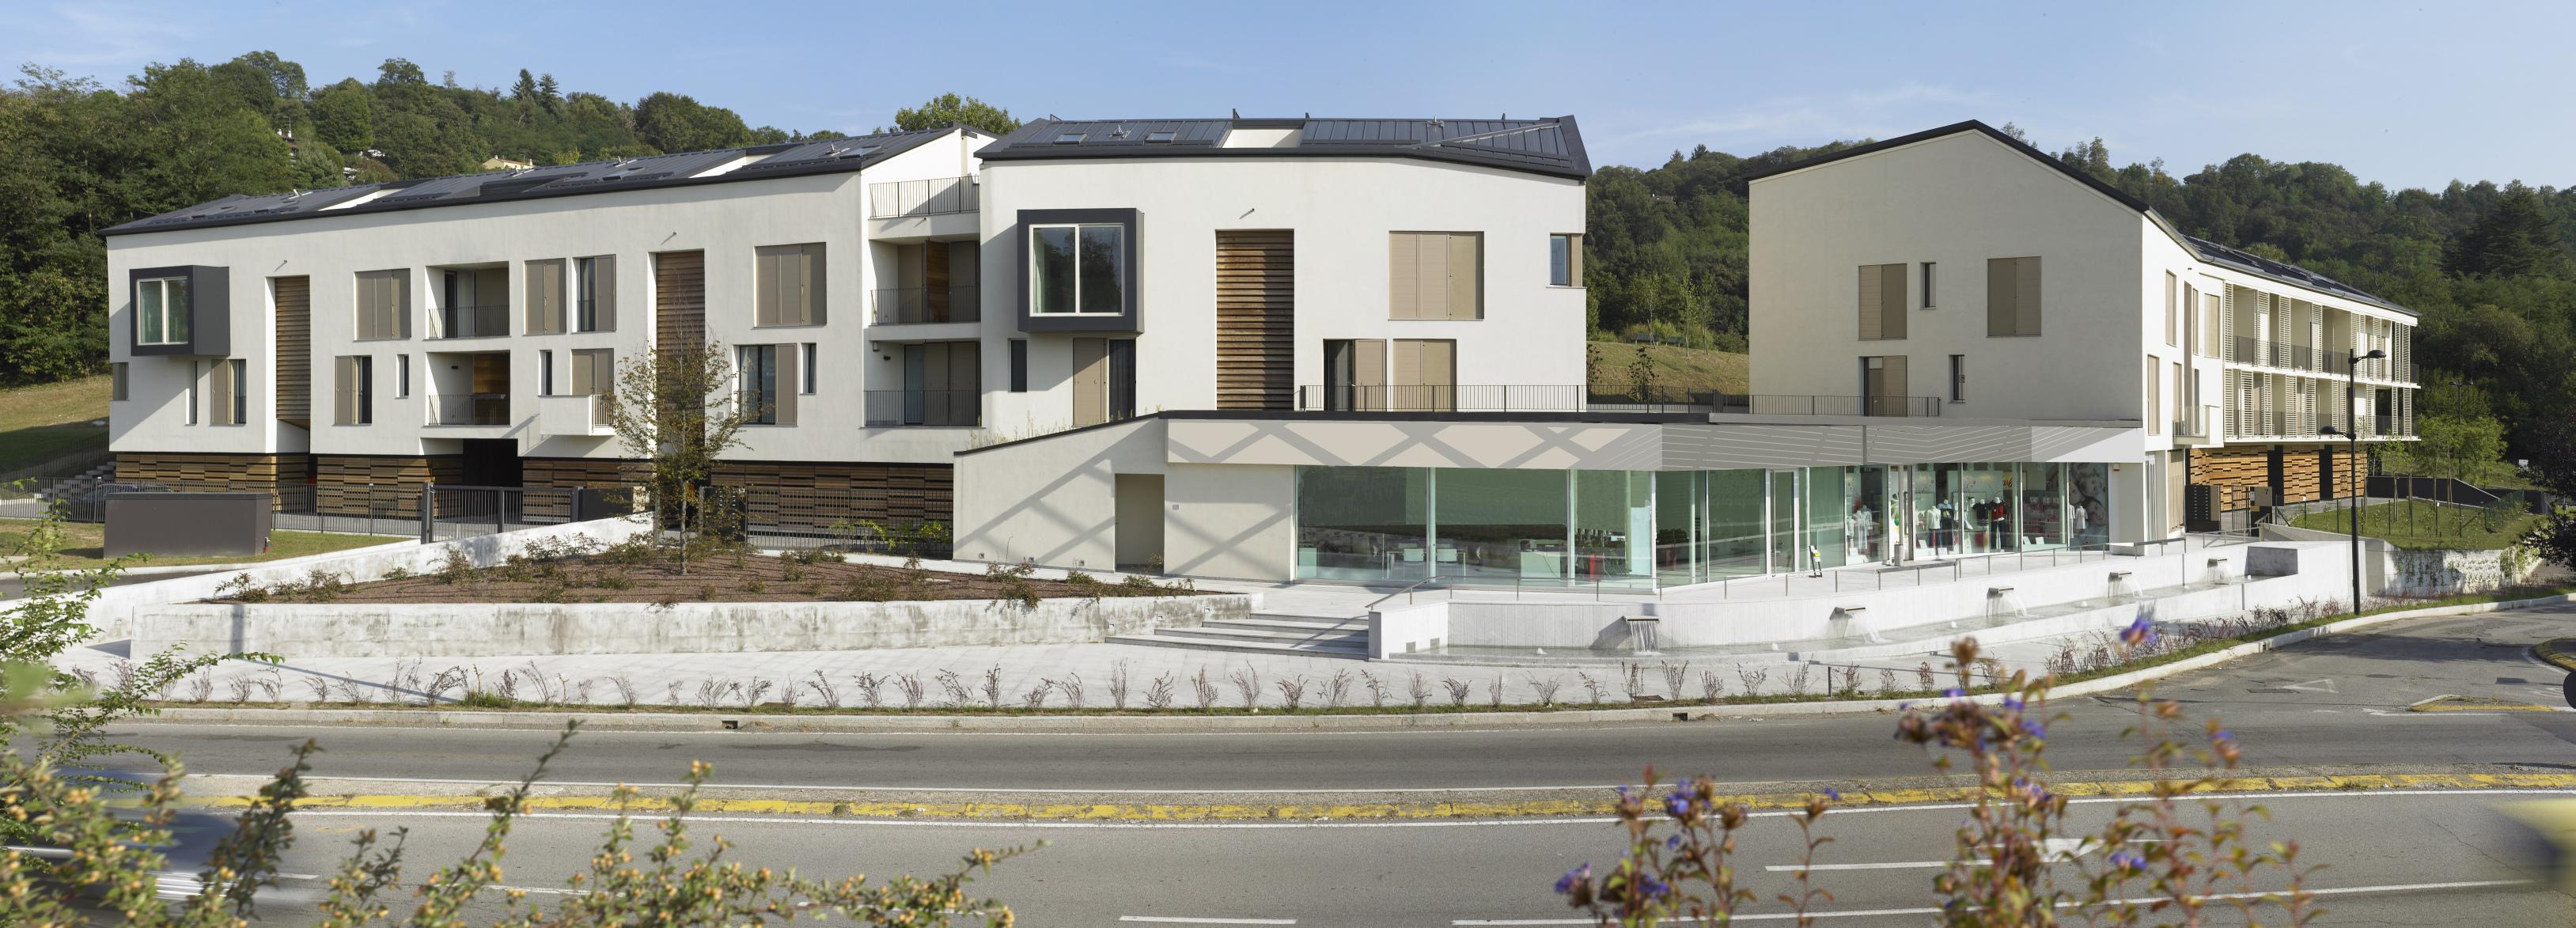affected: (92, 130, 2482, 568)
